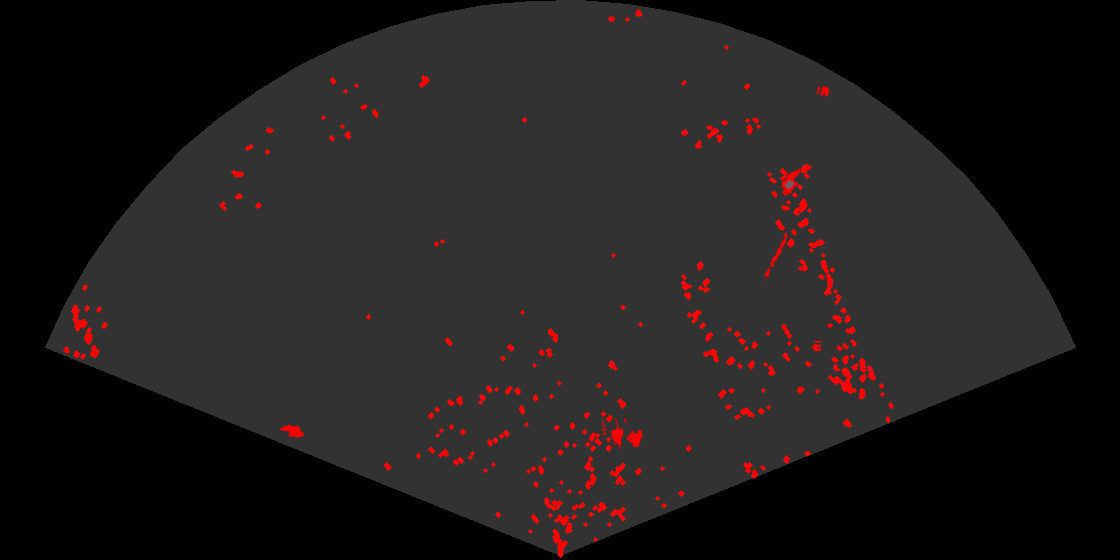AUV: (780, 168, 802, 198), (278, 423, 306, 440)
ball: (815, 84, 831, 99), (810, 339, 823, 352)
cage: (602, 418, 644, 451)
chain: (761, 231, 789, 282)
